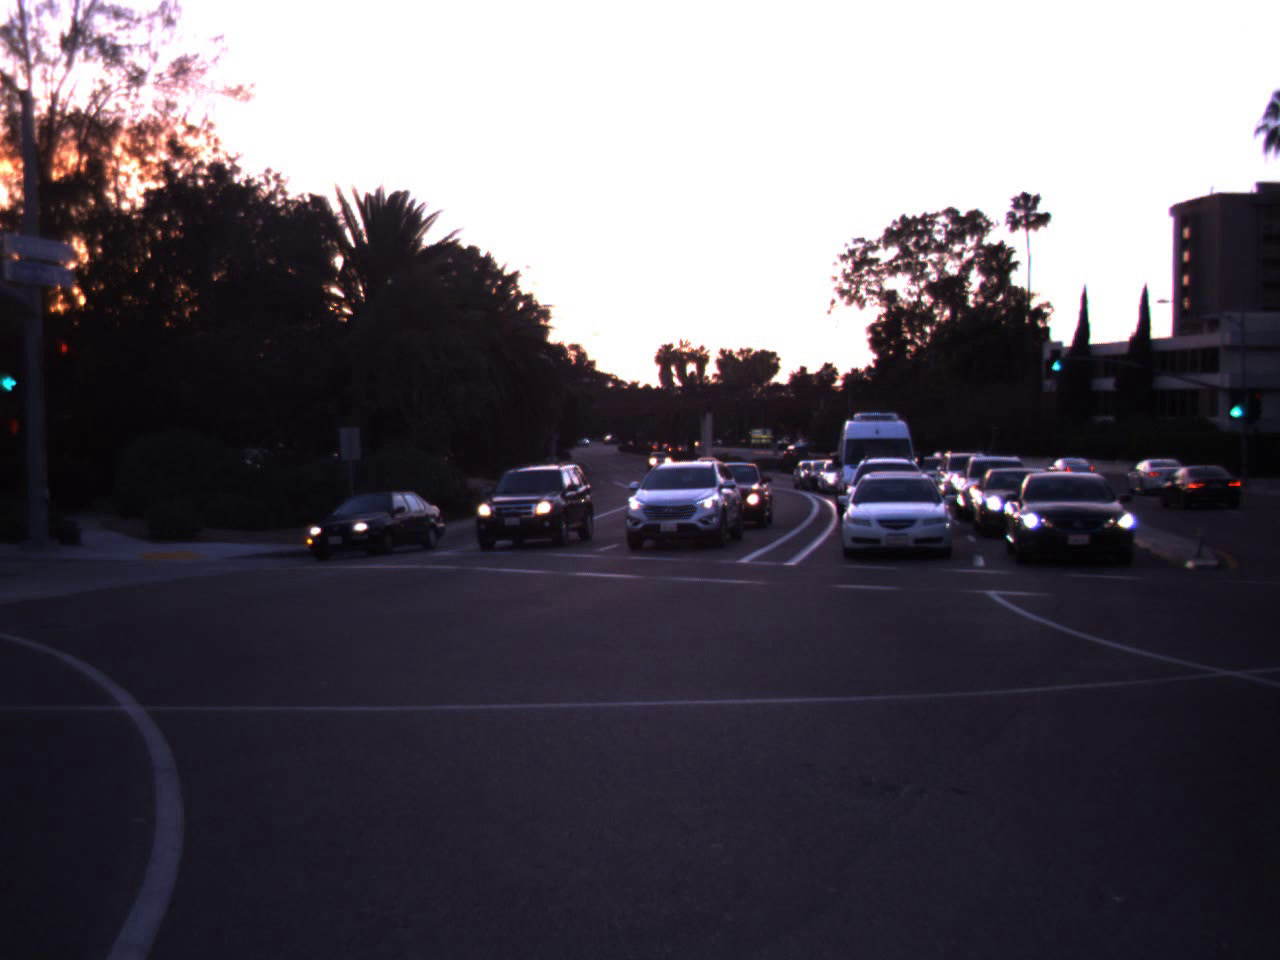go: (1211, 355, 1259, 425), (1043, 329, 1070, 374)
